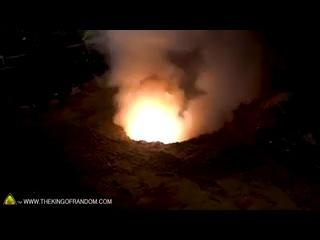Fire: (118, 88, 190, 143)
